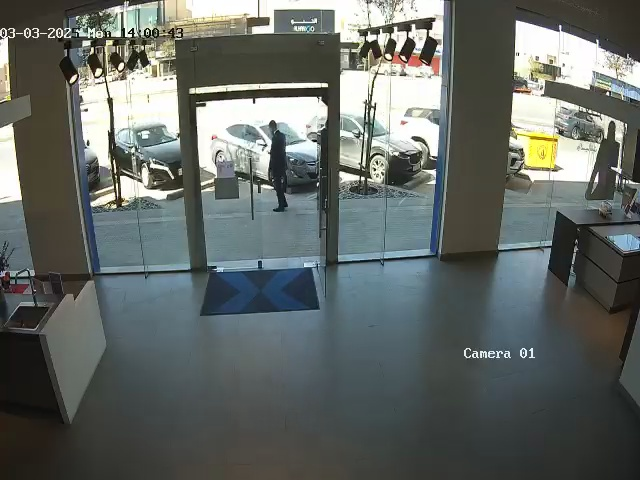male: (267, 119, 290, 213)
other: (581, 107, 627, 214)
